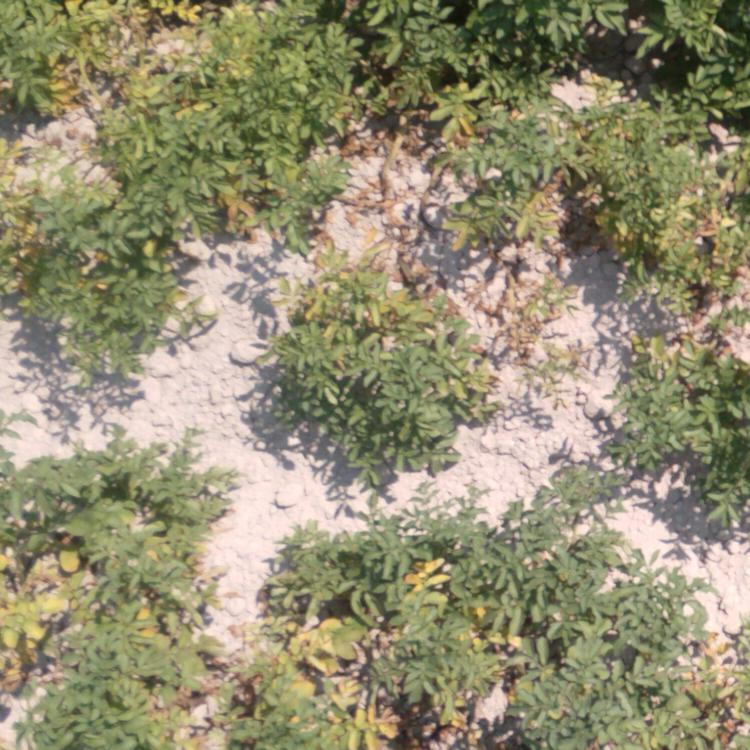healthy: (369, 4, 733, 56), (532, 520, 596, 741)
stressed: (1, 453, 227, 747), (240, 538, 508, 749), (1, 129, 185, 370), (279, 252, 481, 462), (577, 103, 747, 306), (202, 13, 347, 229), (594, 324, 746, 529), (405, 77, 540, 242), (13, 1, 192, 110), (618, 589, 741, 745)
